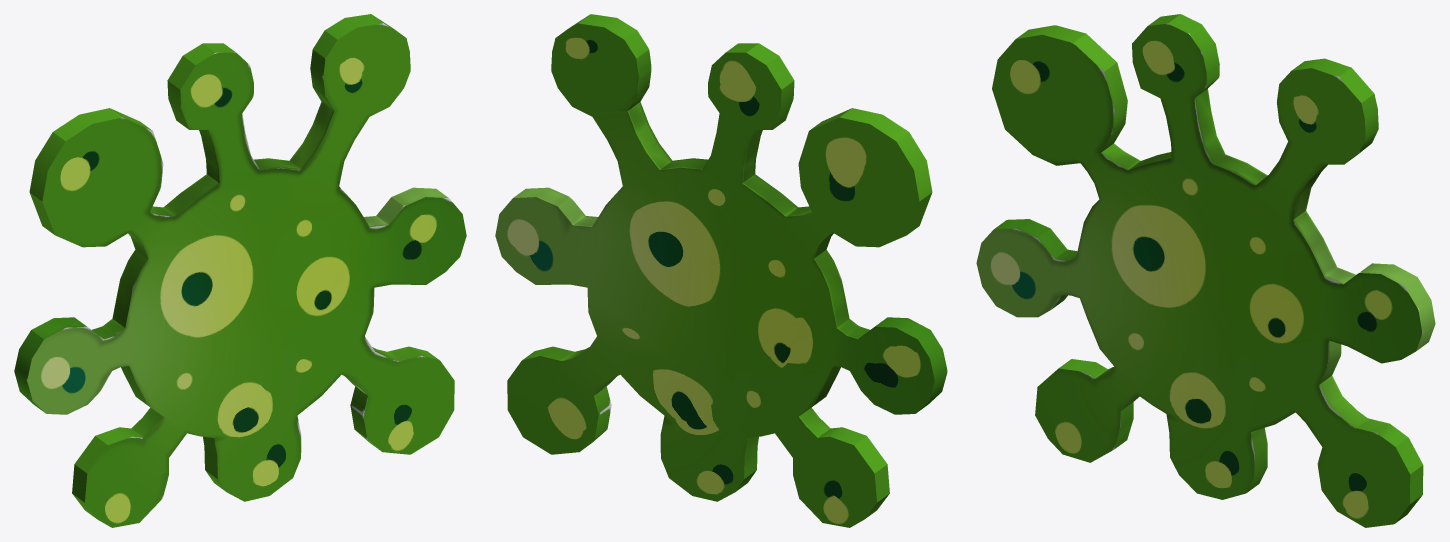
The model's file is Bacteria.fbx.
3 views of the same model, side by side, from view 1: azimuth 30°, elevation 25°; view 2: azimuth 150°, elevation 25°; view 3: azimuth 330°, elevation 25° (orthographic).
Parts seen in each view (by area): view 1: polySurface3; view 2: polySurface3; view 3: polySurface3.
Boxes of the visible parts, box(x1,y1,x2,y2) form: polySurface3: box(14, 14, 466, 527); polySurface3: box(495, 14, 947, 527); polySurface3: box(976, 14, 1435, 527).
Size of the model in its own units: 28.86 by 28.63 by 1.46.
Materials: 1 (1 with a texture image).
